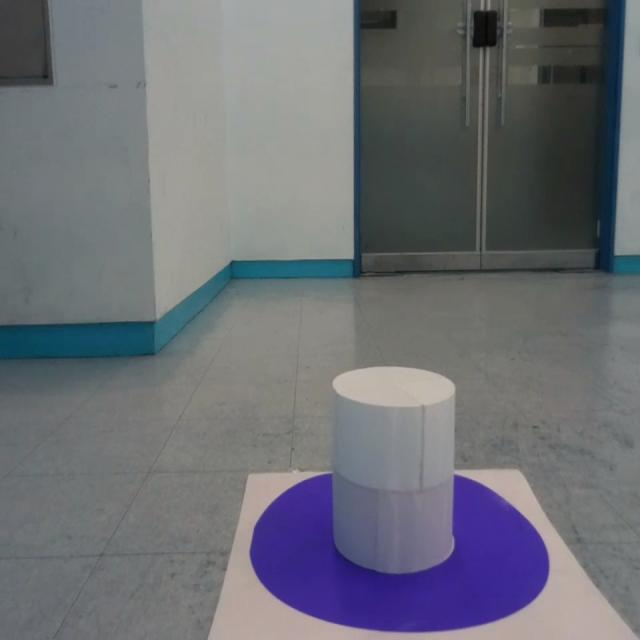cylinder: (330, 365, 458, 575)
